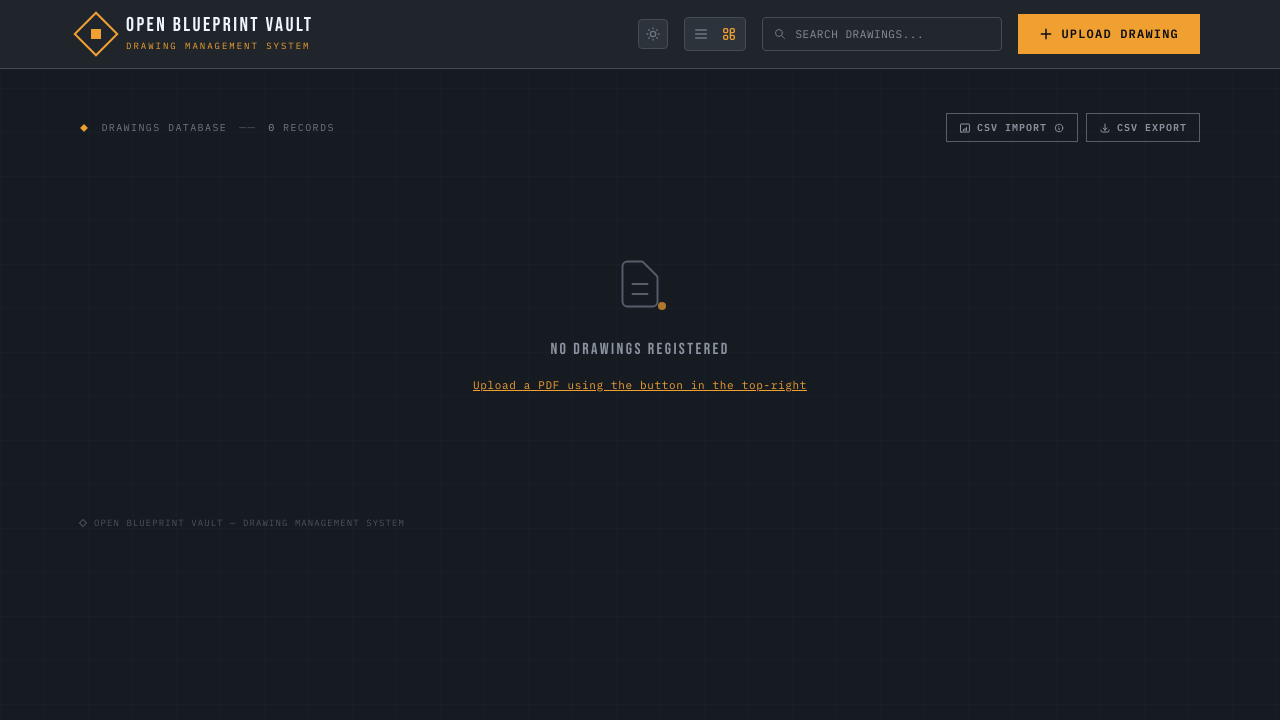
it: Home Page › clears search input when clear button is clicked
Note: Type into input
Type "test" into the field with placeholder "SEARCH DRAWINGS...".
click(882, 34); type("test")  # box [762,17,1002,51]
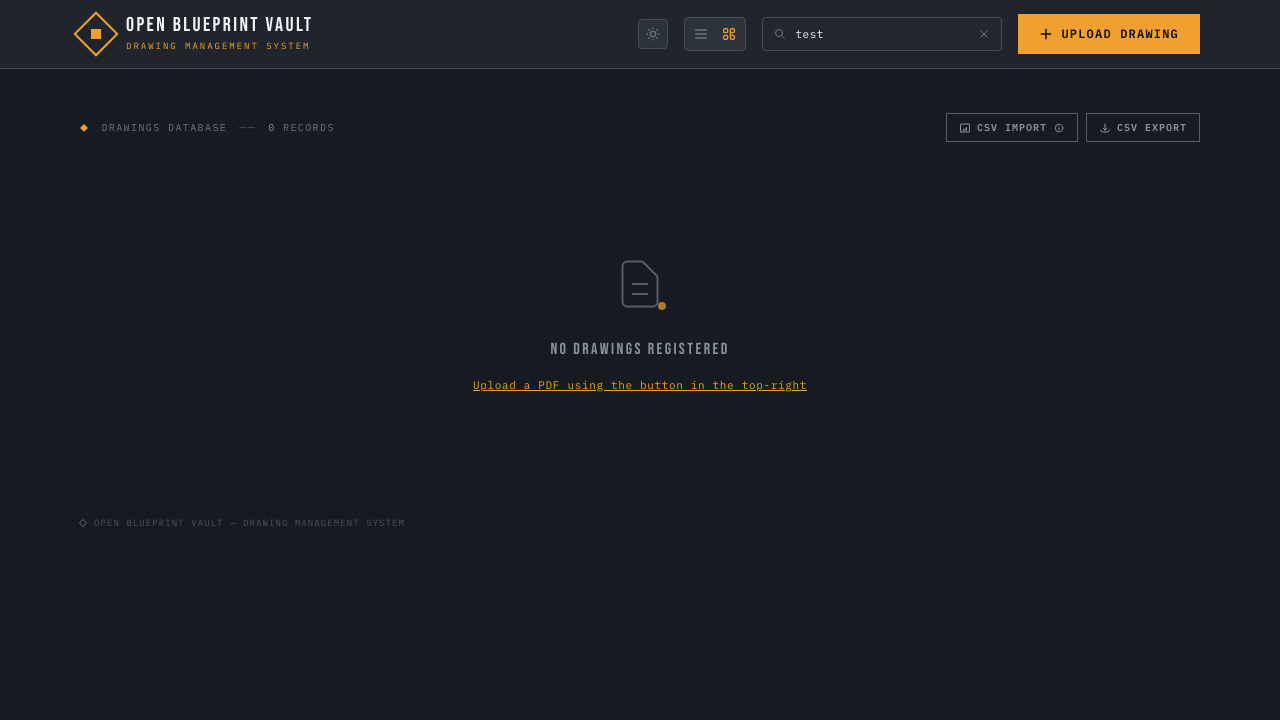
Check: the button titled "Clear search" is shown
Note: Click clear button
Click the button titled "Clear search".
click(984, 34)  # box [974,24,994,44]
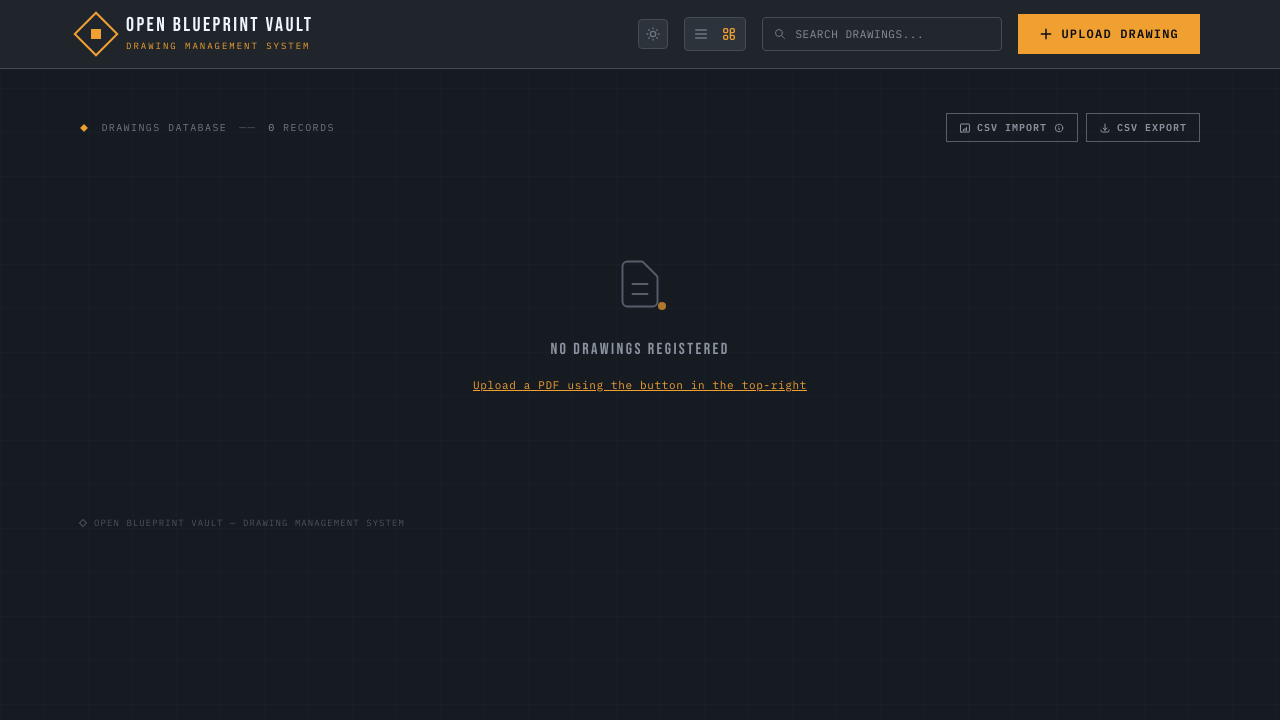
Check: the field with placeholder "SEARCH DRAWINGS..." is empty, box [762,17,1002,51]
